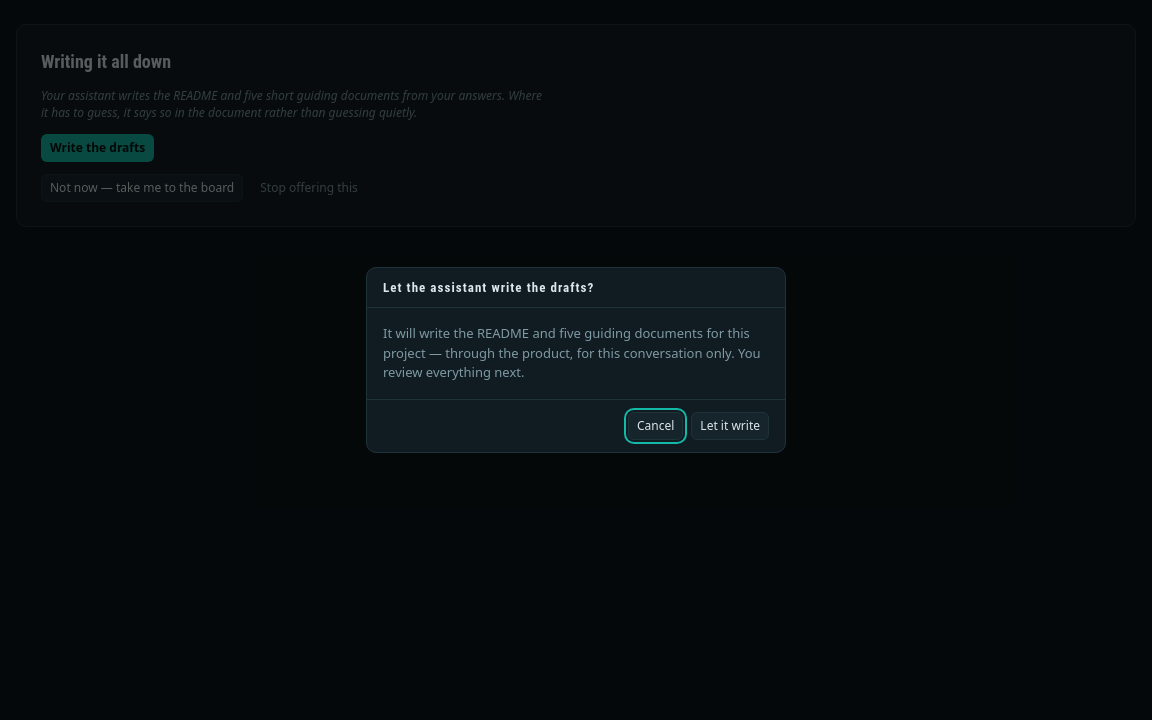
the docs step › goes to the reading step when a gate document was rewritten
Click the button "Let it write".
click(730, 426)  # box [691, 412, 769, 440]
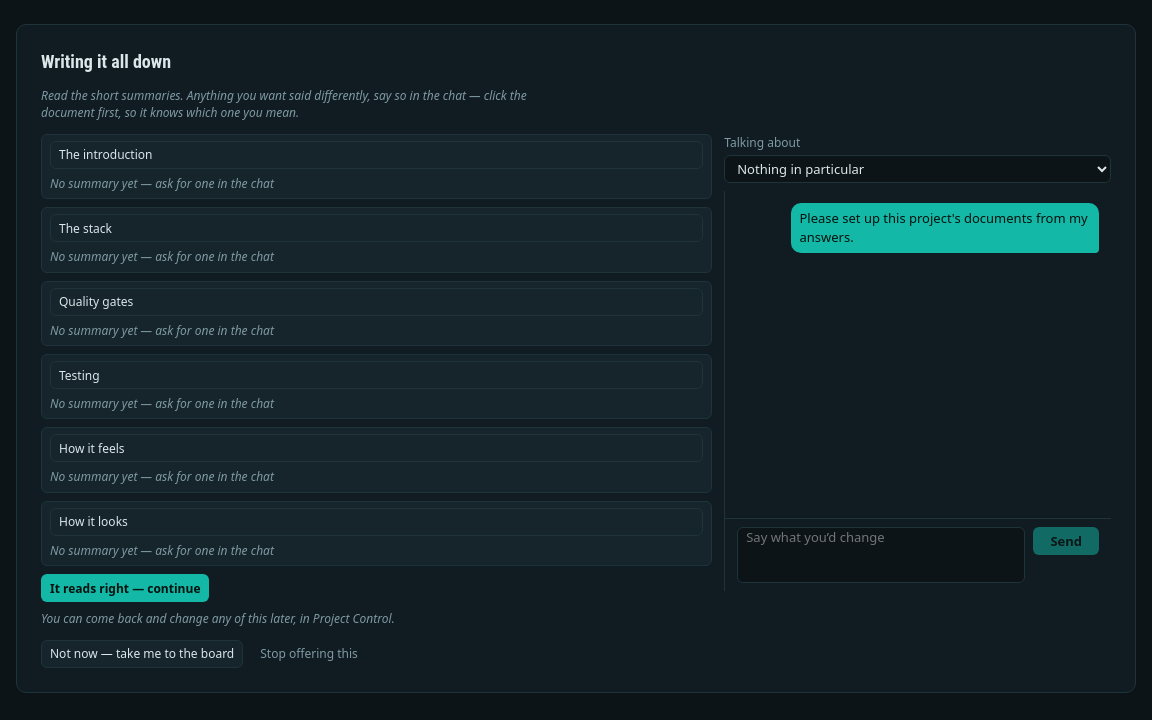
Click the button "It reads right — continue".
click(125, 588)  # box [41, 574, 210, 602]
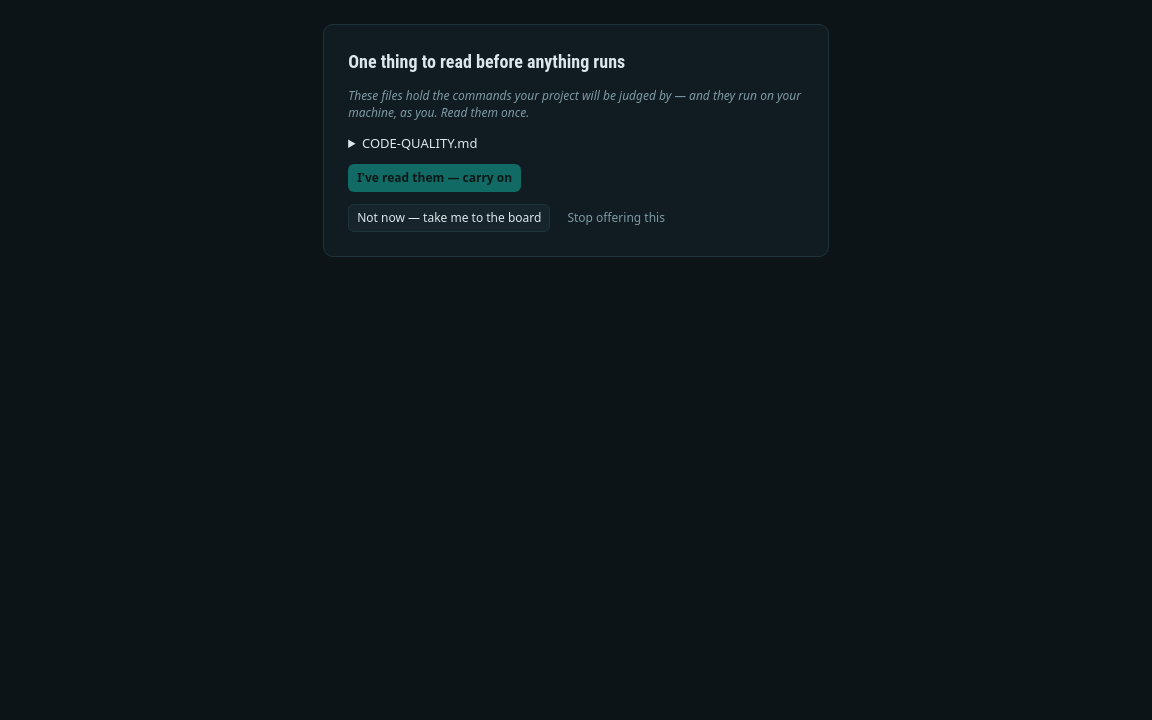
expect the heading "One thing to read before anything runs" is shown: met, box [348, 51, 625, 72]
